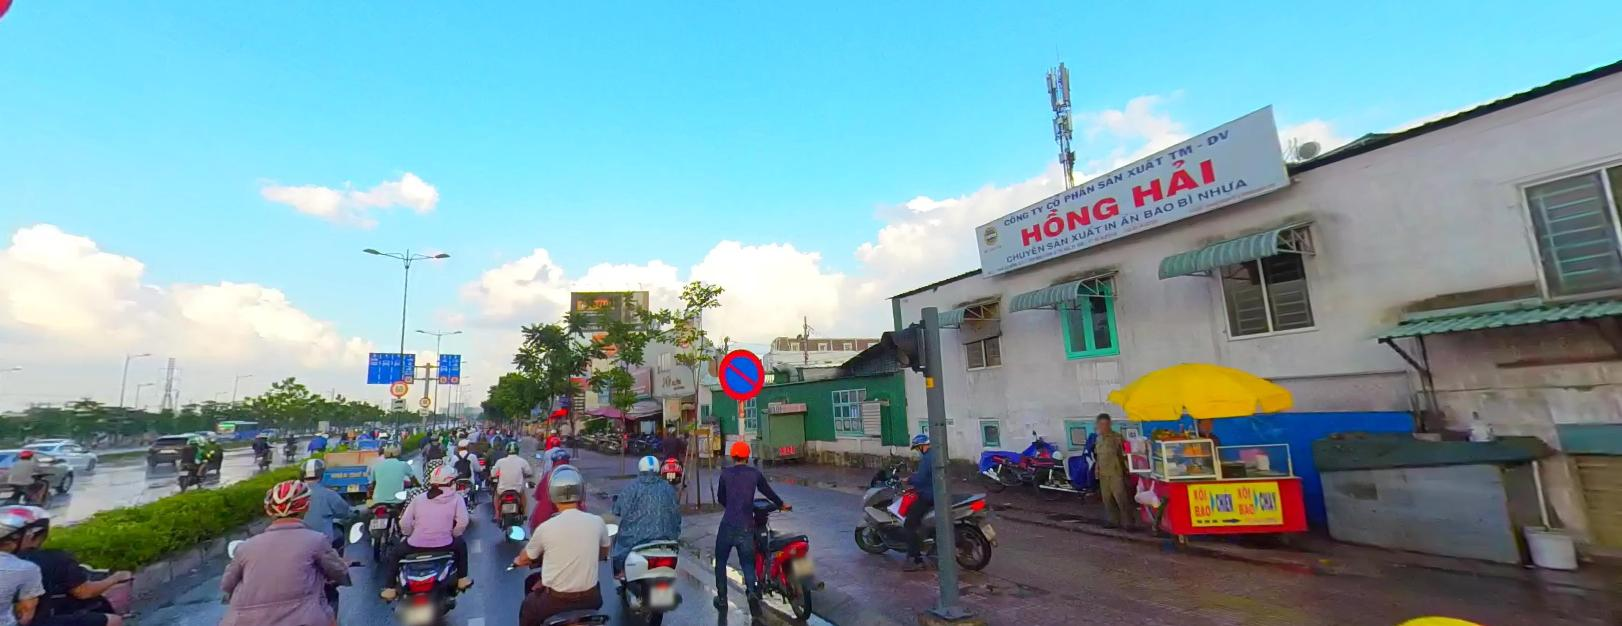Cam dung va do: (715, 346, 763, 397)
Gioi han toc do: (388, 379, 407, 396), (419, 395, 431, 405), (438, 374, 448, 382), (450, 372, 458, 381), (404, 374, 412, 382)
